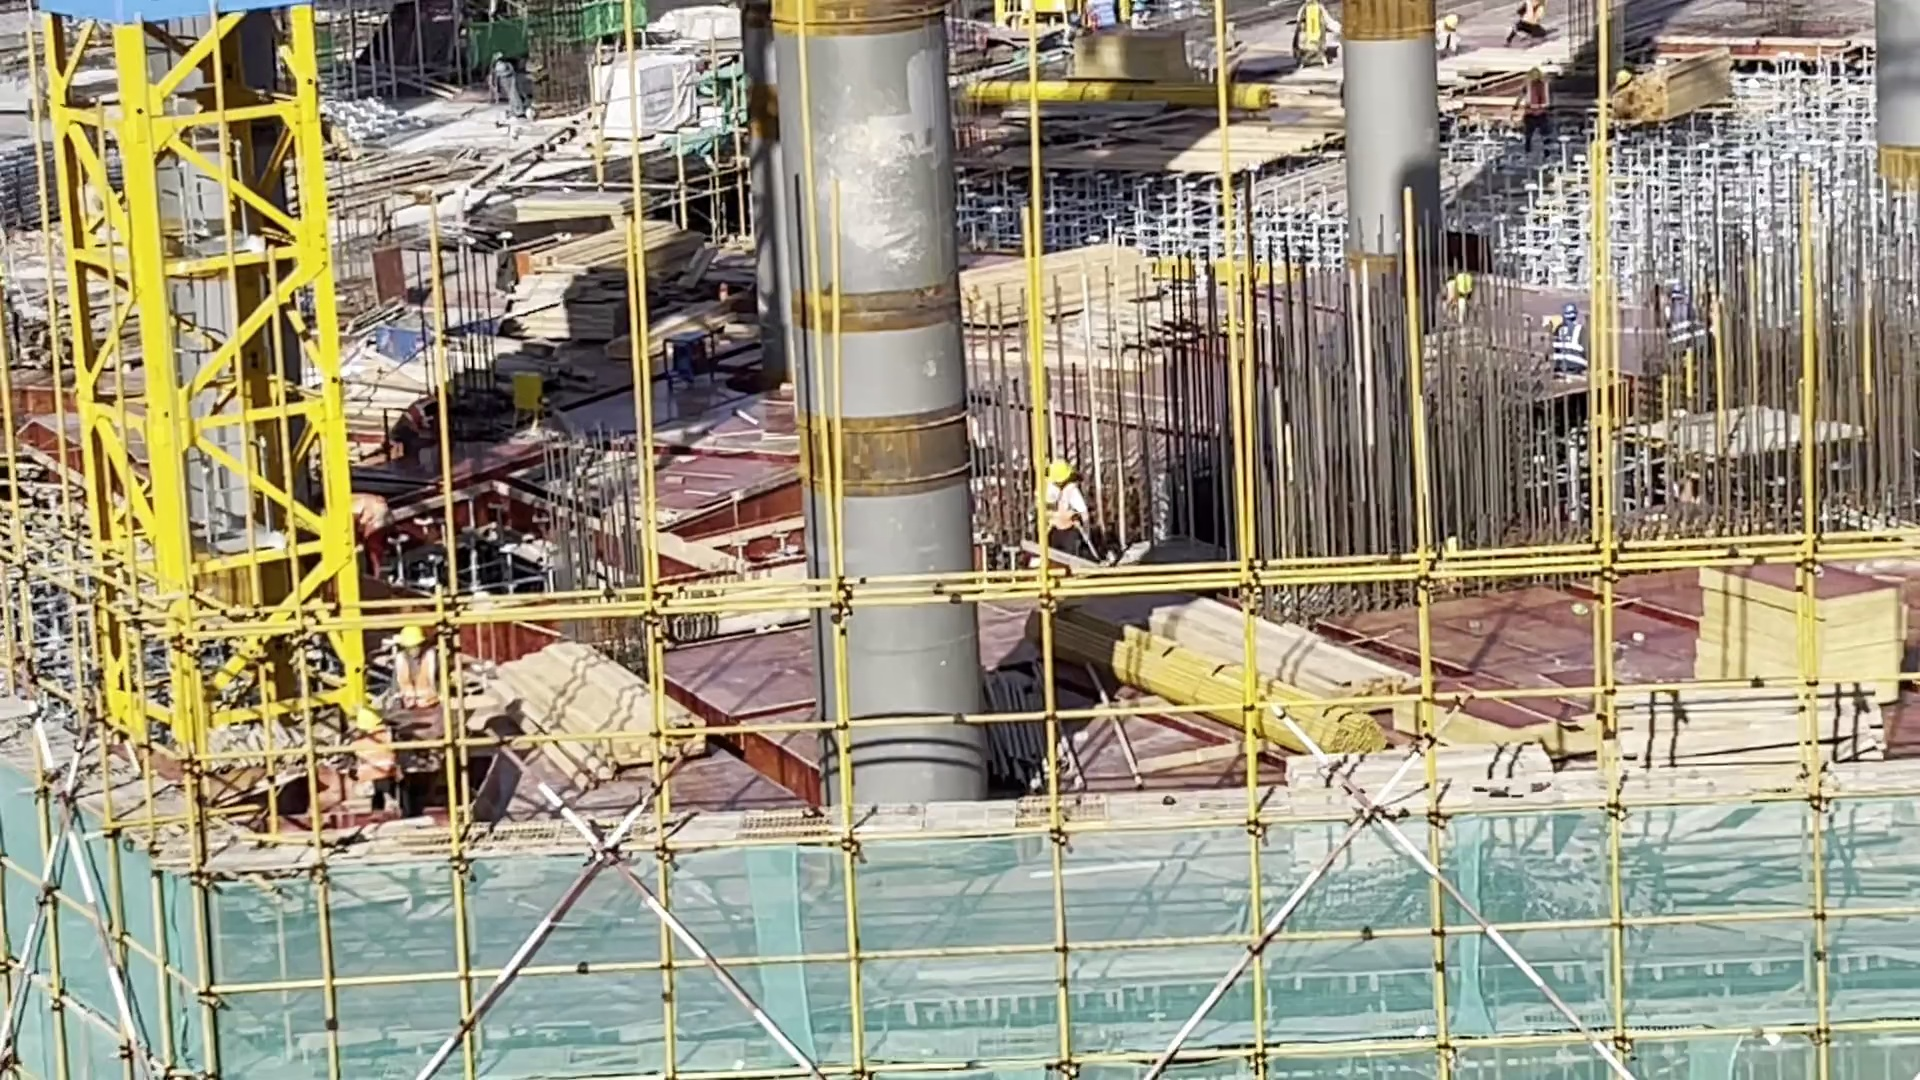helmet: (1440, 261, 1478, 300), (1044, 450, 1075, 486), (394, 617, 426, 649), (1557, 308, 1582, 325), (1444, 13, 1462, 28)
person: (371, 634, 465, 760), (1547, 305, 1604, 390), (1038, 457, 1089, 550), (1525, 68, 1555, 154), (1435, 10, 1461, 62)
vest: (385, 653, 434, 694), (1044, 488, 1083, 532), (1552, 331, 1584, 369), (1523, 83, 1558, 113)
